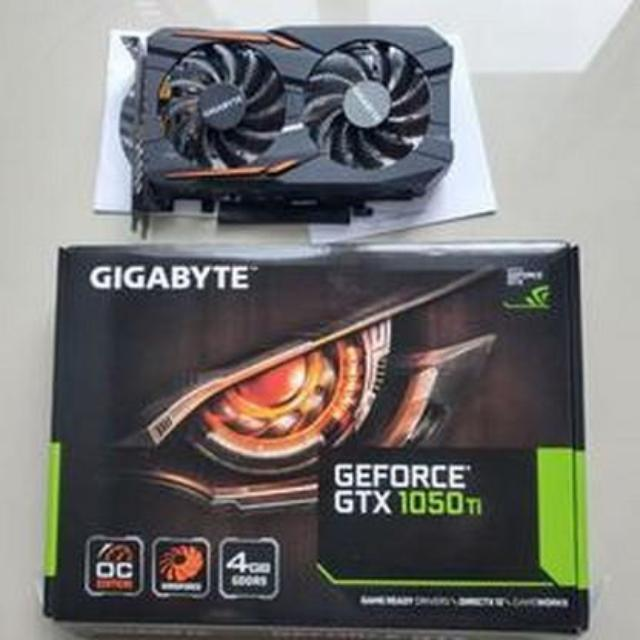GPU: (113, 20, 456, 228)
